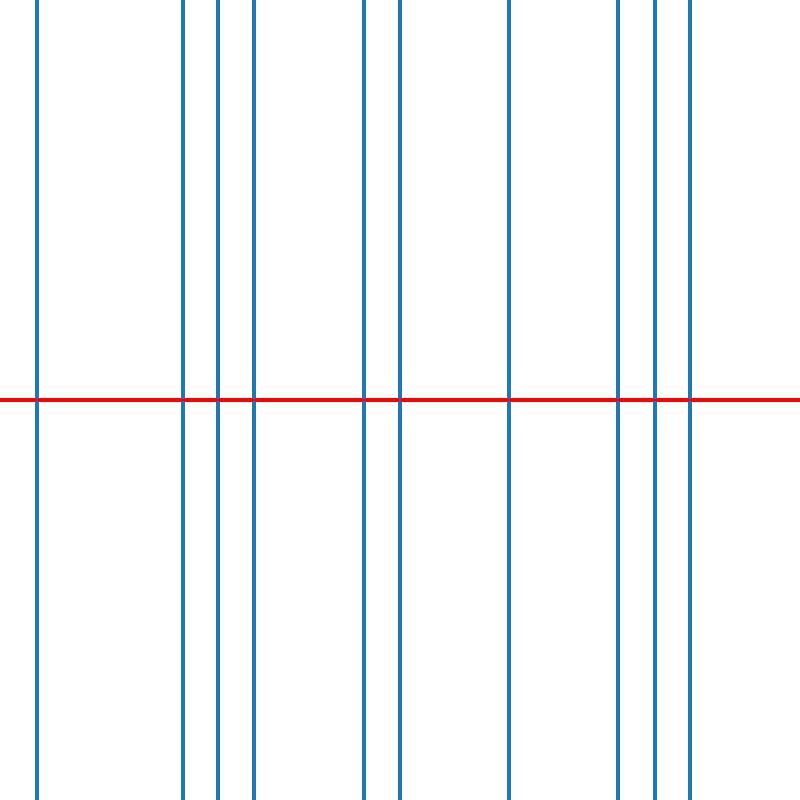root: (32, 396, 40, 404), (650, 396, 658, 404), (250, 396, 258, 404), (396, 396, 403, 404), (214, 396, 221, 404), (614, 396, 621, 404), (505, 396, 512, 404), (178, 396, 185, 404), (687, 396, 694, 404), (360, 396, 367, 404)
